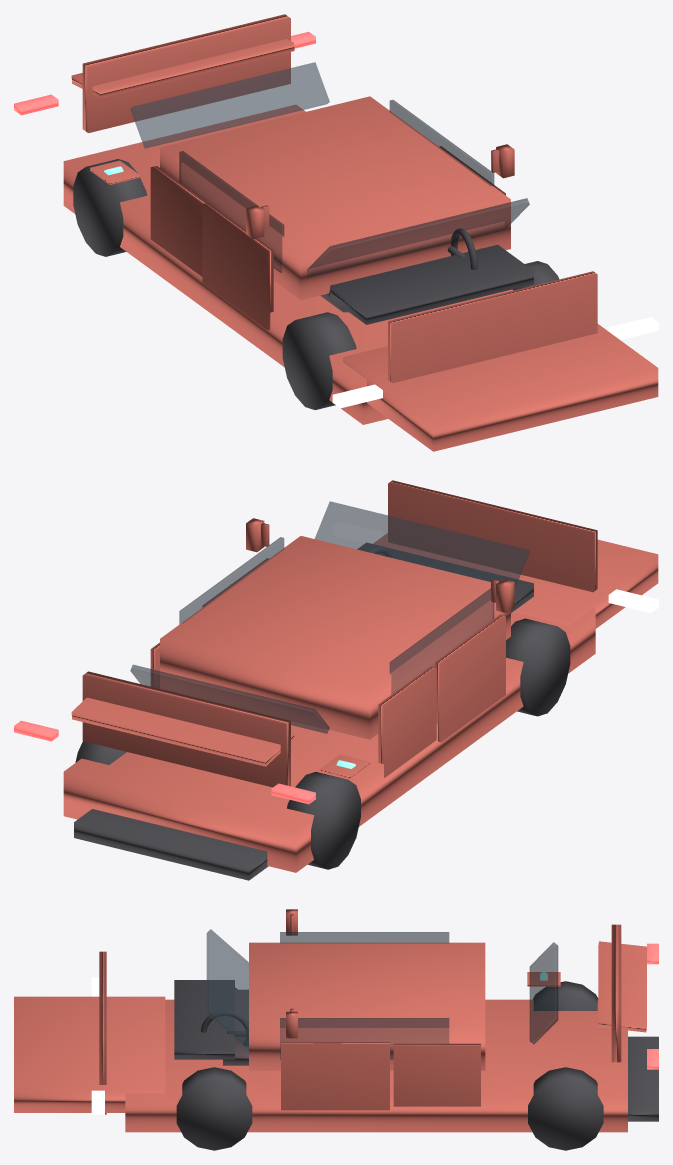
The model's file is sport_sedan_lod.glb.
3 views of the same model, one above another, from view 1: azimuth 30°, elevation 25°; view 2: azimuth 150°, elevation 25°; view 3: azimuth 270°, elevation 25° (orthographic). The views are drawn at different scales.
Parts seen in each view (by area): view 1: cab, nose, base, frunk, trunk, dash, rear_window, door_fl, windshield, wheel_fl, door_rl, wheel_rl (+6 smaller); view 2: cab, base, frunk, trunk, windshield, nose, diffuser, door_fl, spoiler, wheel_fl, door_rl, wheel_rl (+11 smaller); view 3: cab, base, nose, door_fr, door_rr, wheel_fr, wheel_rr, dash, window_glass.001, windshield, spoiler, rear_window (+9 smaller).
Part boxes in pixels (bbox=[...]): cab: bbox=[160, 96, 510, 300]; nose: bbox=[343, 324, 658, 451]; base: bbox=[63, 105, 513, 424]; frunk: bbox=[388, 271, 597, 383]; trunk: bbox=[82, 14, 290, 132]; dash: bbox=[330, 244, 533, 324]; rear_window: bbox=[130, 62, 329, 148]; door_fl: bbox=[202, 203, 273, 330]; windshield: bbox=[307, 198, 529, 277]; wheel_fl: bbox=[282, 312, 356, 409]; door_rl: bbox=[150, 166, 206, 276]; wheel_rl: bbox=[73, 159, 147, 256]; cab: bbox=[160, 536, 510, 739]; base: bbox=[63, 608, 595, 872]; frunk: bbox=[388, 480, 597, 592]; trunk: bbox=[82, 671, 290, 787]; windshield: bbox=[315, 501, 529, 588]; nose: bbox=[373, 533, 658, 628]; diffuser: bbox=[74, 809, 268, 880]; door_fl: bbox=[435, 615, 505, 742]; spoiler: bbox=[71, 697, 294, 766]; wheel_fl: bbox=[506, 618, 570, 716]; door_rl: bbox=[378, 666, 436, 777]; wheel_rl: bbox=[287, 772, 360, 869]; cab: bbox=[249, 942, 485, 1070]; base: bbox=[125, 999, 627, 1132]; nose: bbox=[14, 996, 165, 1112]; door_fr: bbox=[281, 1042, 389, 1110]; door_rr: bbox=[393, 1043, 480, 1106]; wheel_fr: bbox=[176, 1067, 252, 1150]; wheel_rr: bbox=[528, 1067, 603, 1150]; dash: bbox=[174, 980, 234, 1059]; window_glass.001: bbox=[280, 1018, 449, 1059]; windshield: bbox=[206, 929, 248, 1050]; spoiler: bbox=[598, 941, 646, 1032]; rear_window: bbox=[529, 942, 558, 1044].
Size of the model in its own units: 2.55 by 1.26 by 5.33.
